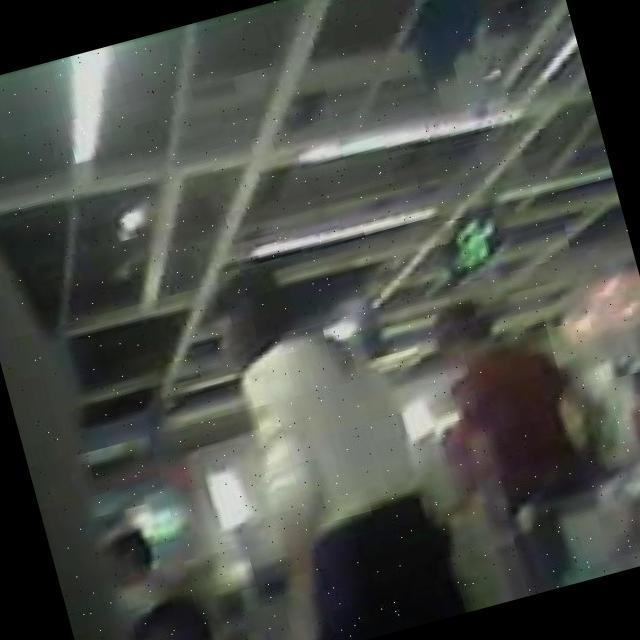person: (191, 230, 461, 640), (422, 282, 592, 508), (113, 581, 229, 640), (614, 358, 640, 470)
